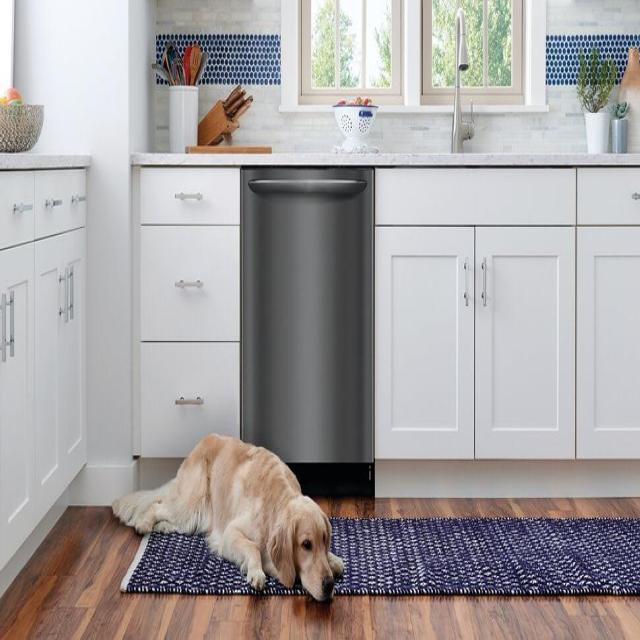dishwasher: (239, 152, 389, 548)
